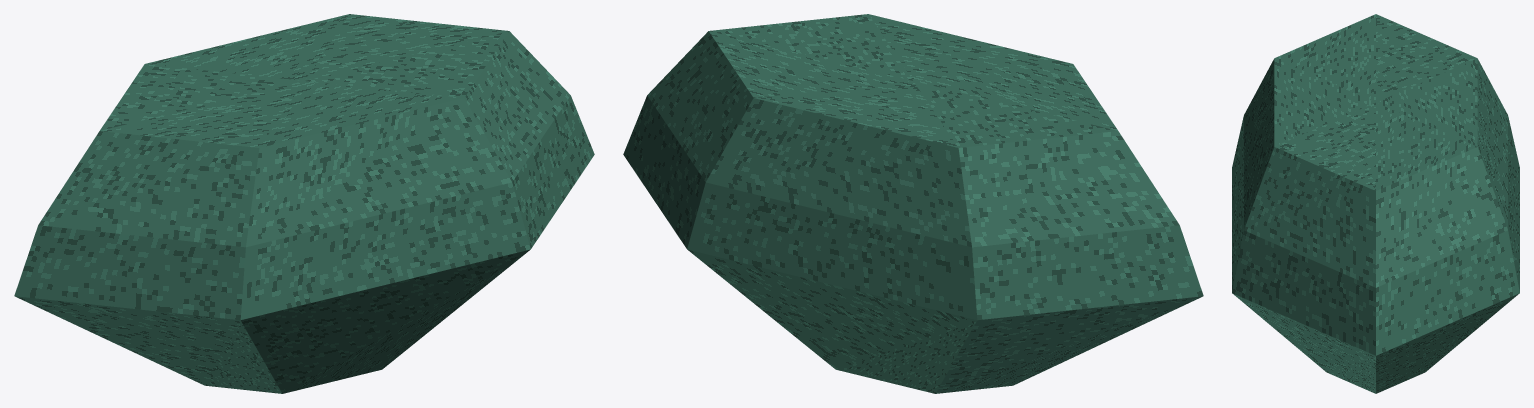
The model's file is tourmaline.glb.
The picture shows the model from 3 angles, left to right: view 1: azimuth 30°, elevation 25°; view 2: azimuth 150°, elevation 25°; view 3: azimuth 270°, elevation 25°; orthographic projection. The views are drawn at different scales.
Visible parts, largest first — view 1: block_faceted cut stone; view 2: block_faceted cut stone; view 3: block_faceted cut stone.
Part boxes in pixels (x1=…): block_faceted cut stone: x1=14, y1=14, x2=594, y2=393; block_faceted cut stone: x1=623, y1=14, x2=1203, y2=393; block_faceted cut stone: x1=1232, y1=14, x2=1519, y2=393.
Bounding box in the file's own units: 0.0505 × 0.0246 × 0.0245.
Materials: 1 (1 with a texture image).
